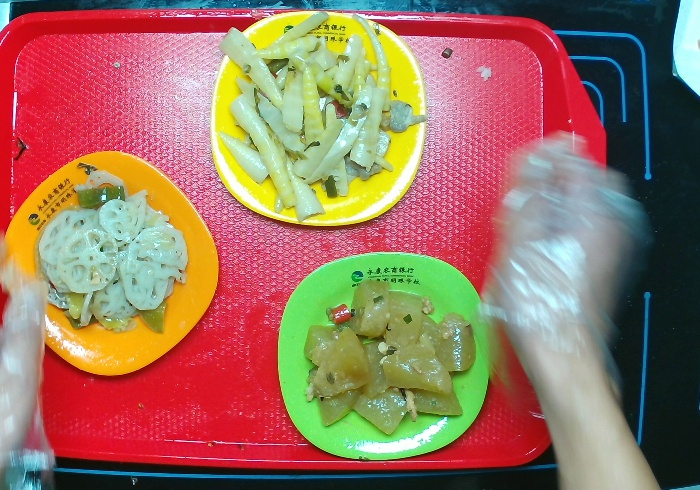YKMZ-Huang_Se_Fang_Die: (197, 1, 442, 241)
YKMZ-Ju_Se_Fang_Die: (1, 144, 222, 392)
YKMZ-Lv_Se_Fang_Die: (263, 231, 508, 473)
